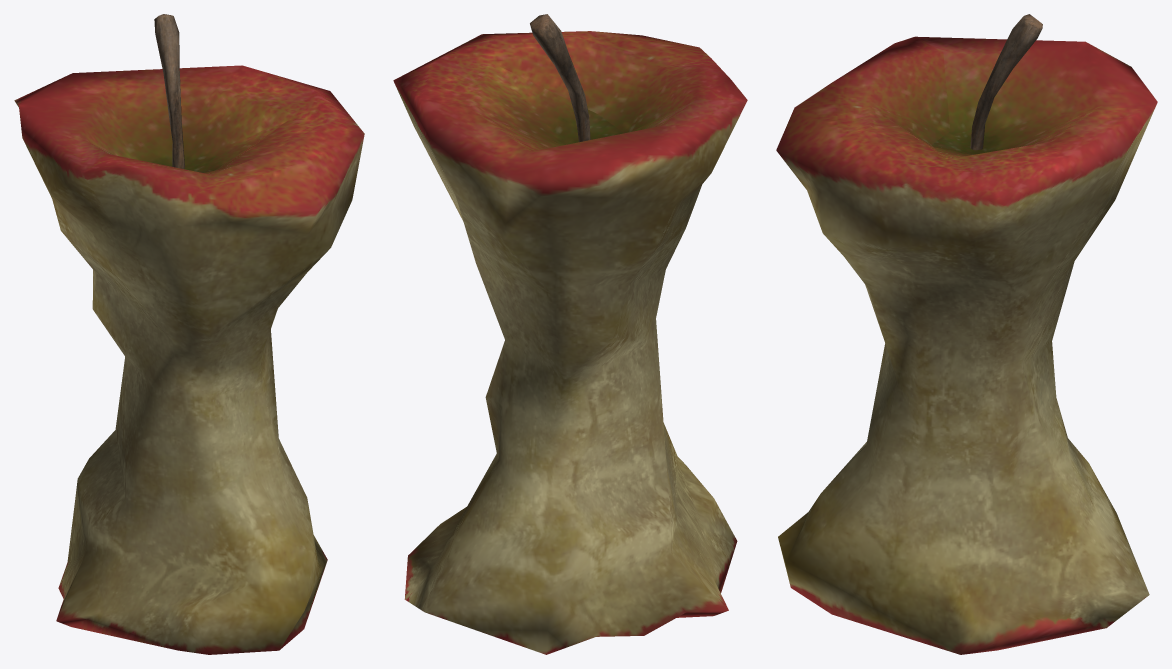
The model's file is SM_Apple_D.fbx.
3 views of the same model, side by side, from view 1: azimuth 30°, elevation 25°; view 2: azimuth 150°, elevation 25°; view 3: azimuth 270°, elevation 25° (orthographic). The views are drawn at different scales.
Parts seen in each view (by area): view 1: SM_Apple_D_LOD0; view 2: SM_Apple_D_LOD0; view 3: SM_Apple_D_LOD0.
Part boxes in pixels (left/top/right/bottom): SM_Apple_D_LOD0: left=14, top=14, right=364, bottom=654; SM_Apple_D_LOD0: left=393, top=14, right=747, bottom=654; SM_Apple_D_LOD0: left=776, top=14, right=1157, bottom=654.
Size of the model in its own units: 5.54 by 5.99 by 10.13.
Materials: 1 (1 with a texture image).
